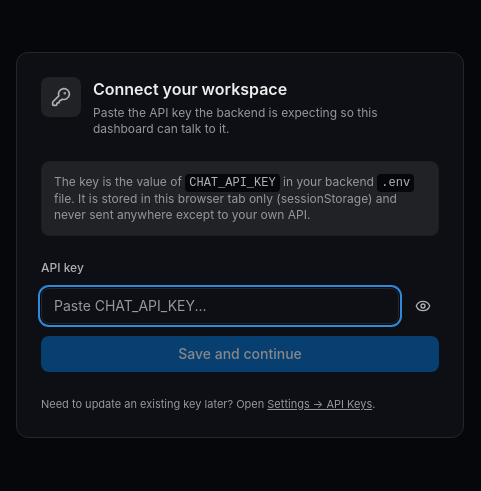
it: SetupPage › surfaces a network error message when the API is unreachable
The width and height of the screenshot is (481, 491).
Type "sk-bad-key" into the password field labelled "API key". click: [220, 306]
box: [41,288,399,324]
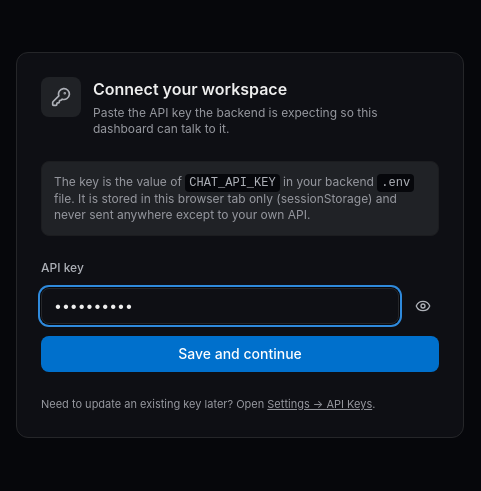
Click the button "Save and continue". click: [240, 354]
box: [41,336,439,372]
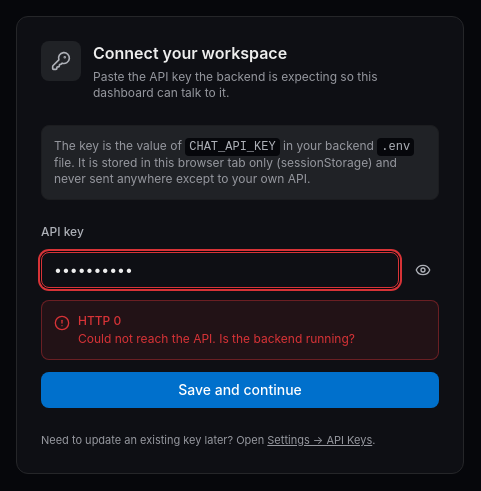
Check: the message shows "Could not reach the API", box [78,331,355,346]
